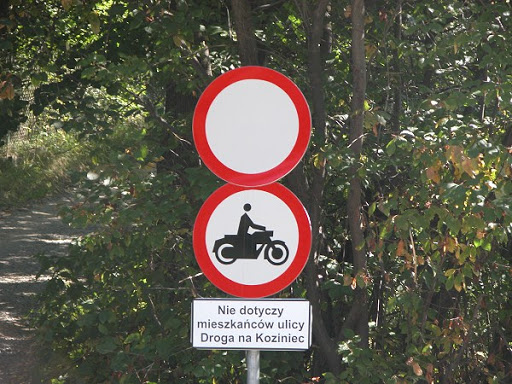no_entry_sign: (191, 65, 311, 188)
